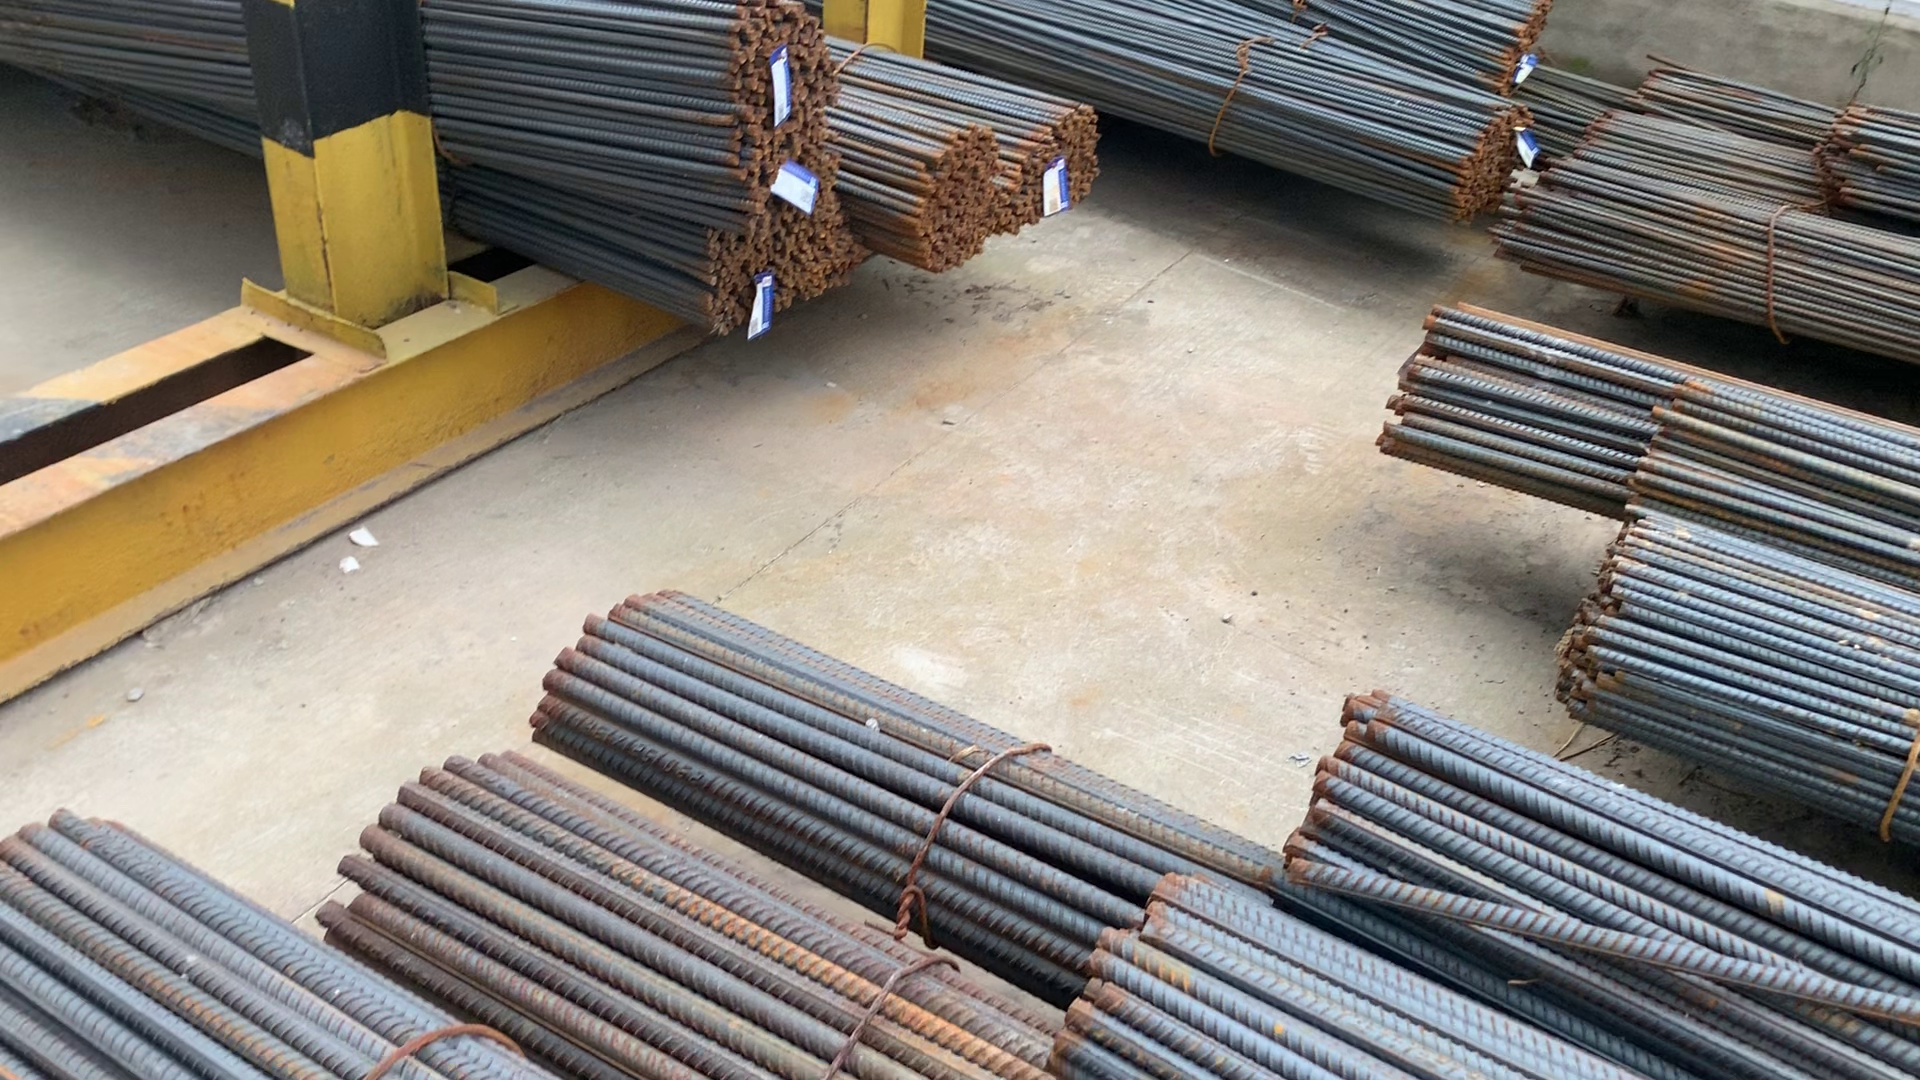rebar: (703, 181, 856, 327), (727, 15, 829, 162), (914, 133, 996, 270), (1011, 104, 1106, 210), (1443, 104, 1534, 210), (1499, 8, 1553, 88)
